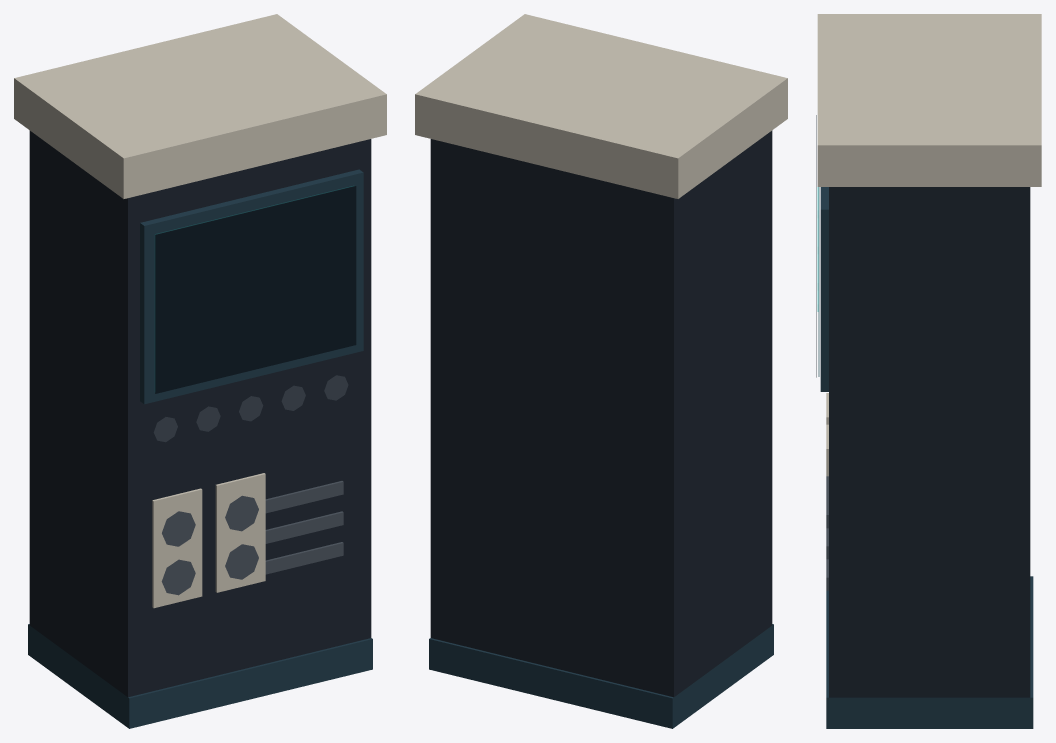
File: computador_estreito.glb
The picture shows the model from 3 angles, left to right: view 1: azimuth 30°, elevation 25°; view 2: azimuth 150°, elevation 25°; view 3: azimuth 270°, elevation 25°; orthographic projection. The views are drawn at different scales.
Parts seen in each view (by area): view 1: computador_estreito_malha, luzes_apagadas_malha; view 2: computador_estreito_malha; view 3: computador_estreito_malha, computador_estreito_brilho.
Part boxes in pixels (x1,y1,x2,y2): computador_estreito_malha: (14, 14, 386, 728); luzes_apagadas_malha: (153, 186, 356, 442); computador_estreito_malha: (415, 14, 787, 728); computador_estreito_malha: (817, 14, 1041, 728); computador_estreito_brilho: (817, 187, 819, 376).
Size of the model in its own units: 1.08 by 2.26 by 0.785.
